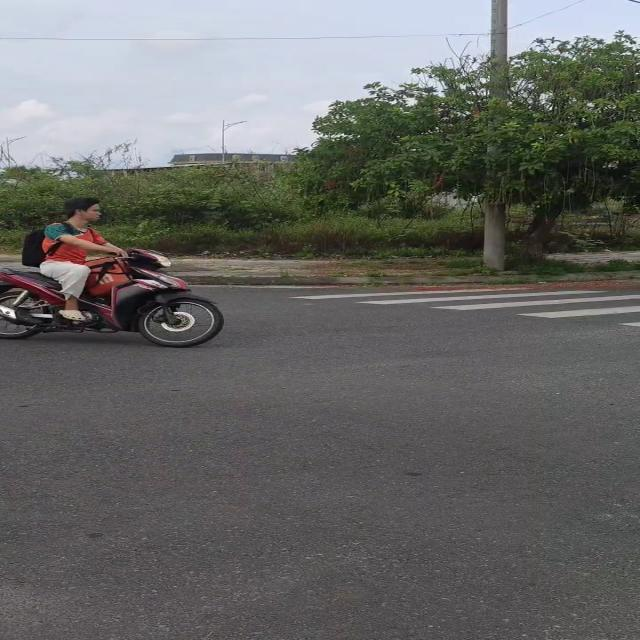no_helmet: (64, 198, 105, 228)
